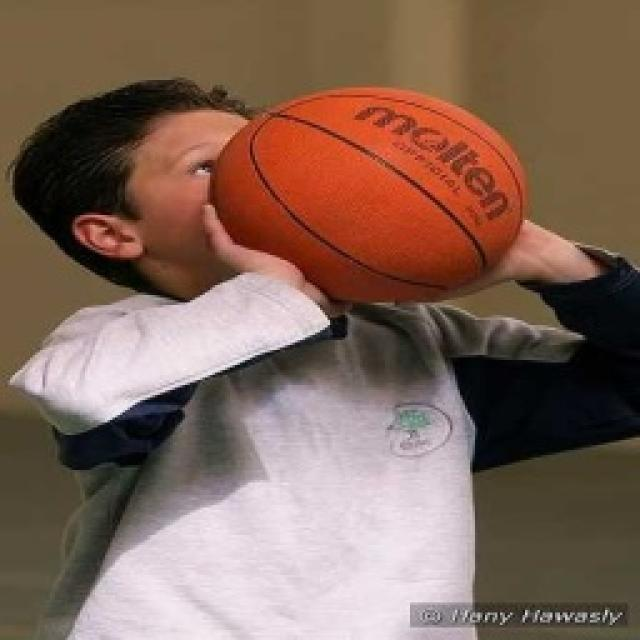rim: (203, 77, 531, 316)
